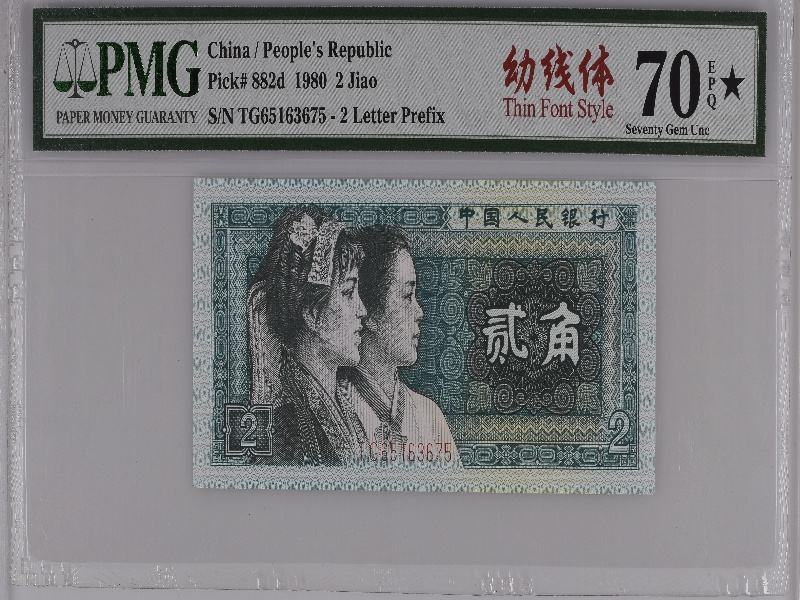papernote: (190, 173, 660, 498)
